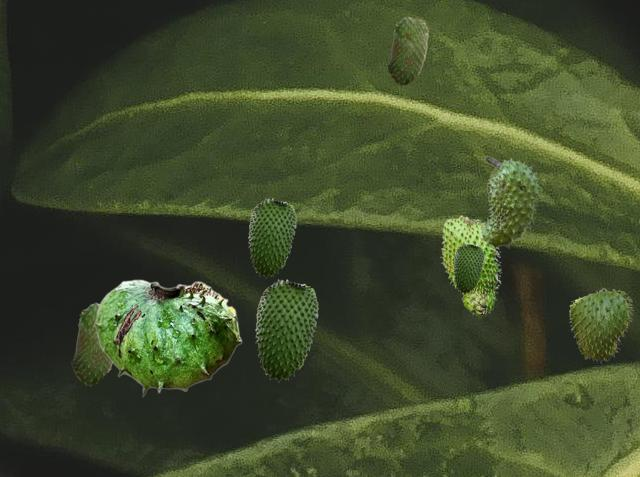guyabano: (93, 279, 241, 396), (255, 279, 317, 381), (440, 215, 501, 317), (479, 156, 543, 249), (569, 288, 633, 362), (248, 198, 295, 277), (71, 302, 112, 385), (387, 16, 428, 85), (453, 243, 483, 293)
